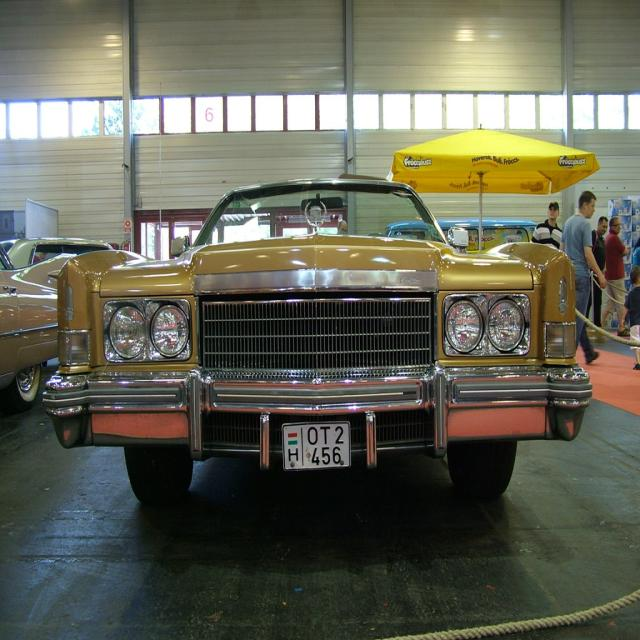car: (31, 163, 591, 528)
